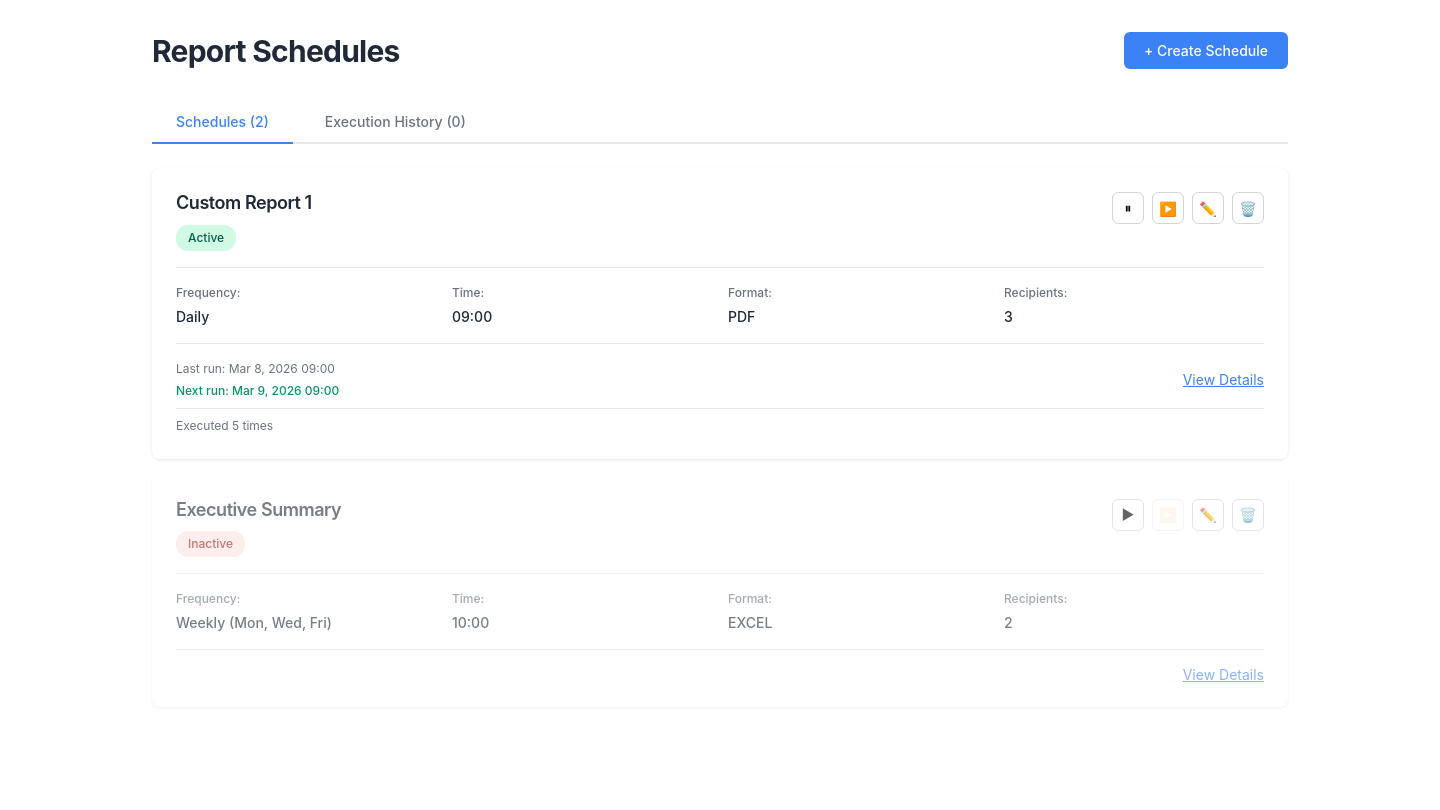
Scenario: ReportSchedules › Schedules List › should display schedule details modal
This screenshot has width=1440, height=810.
Click the button "View Details" in the row of "Mar 9, 2026 09:00": (1223, 380) [1183,371,1264,388]
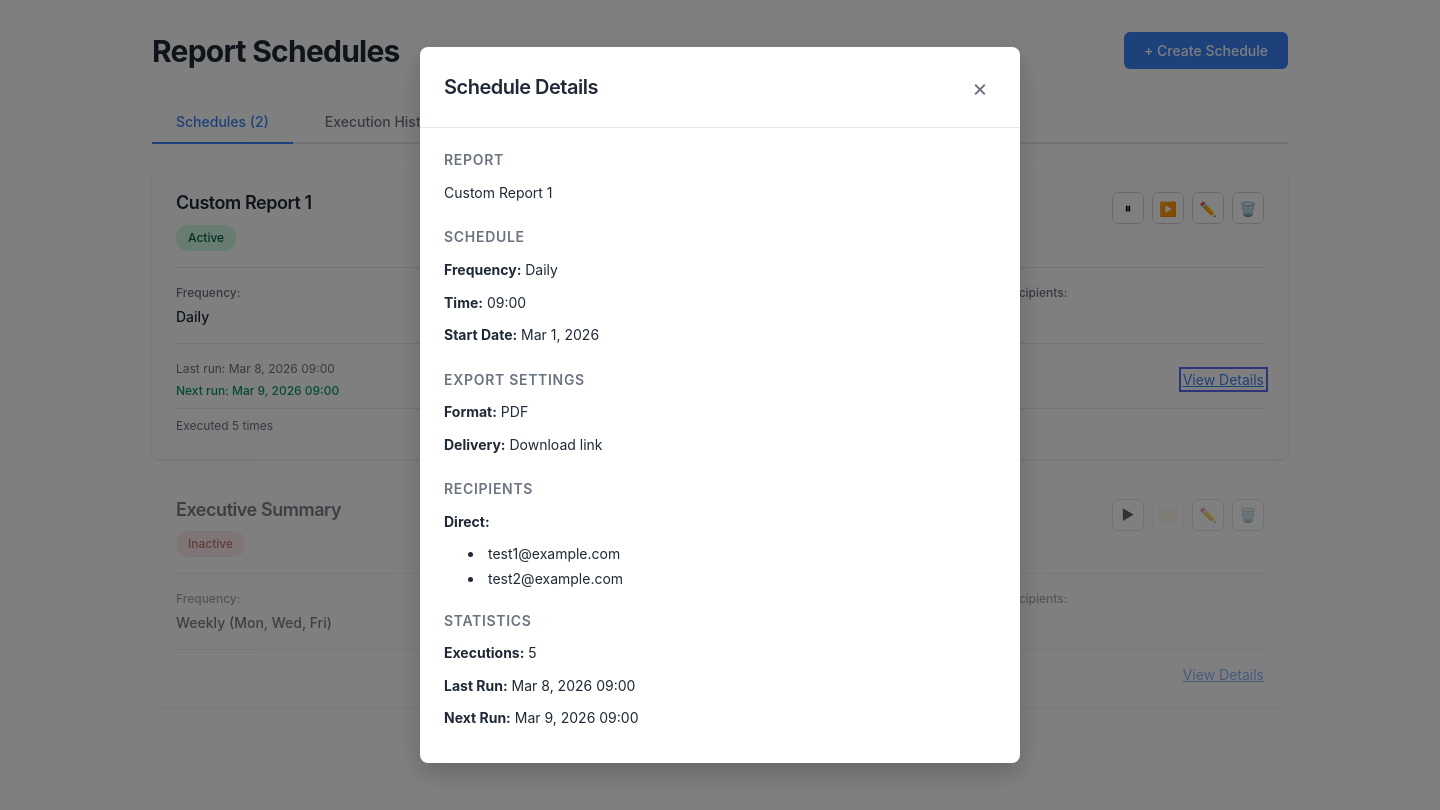
Check: the heading "Schedule Details" is shown, box [444,75,598,99]
